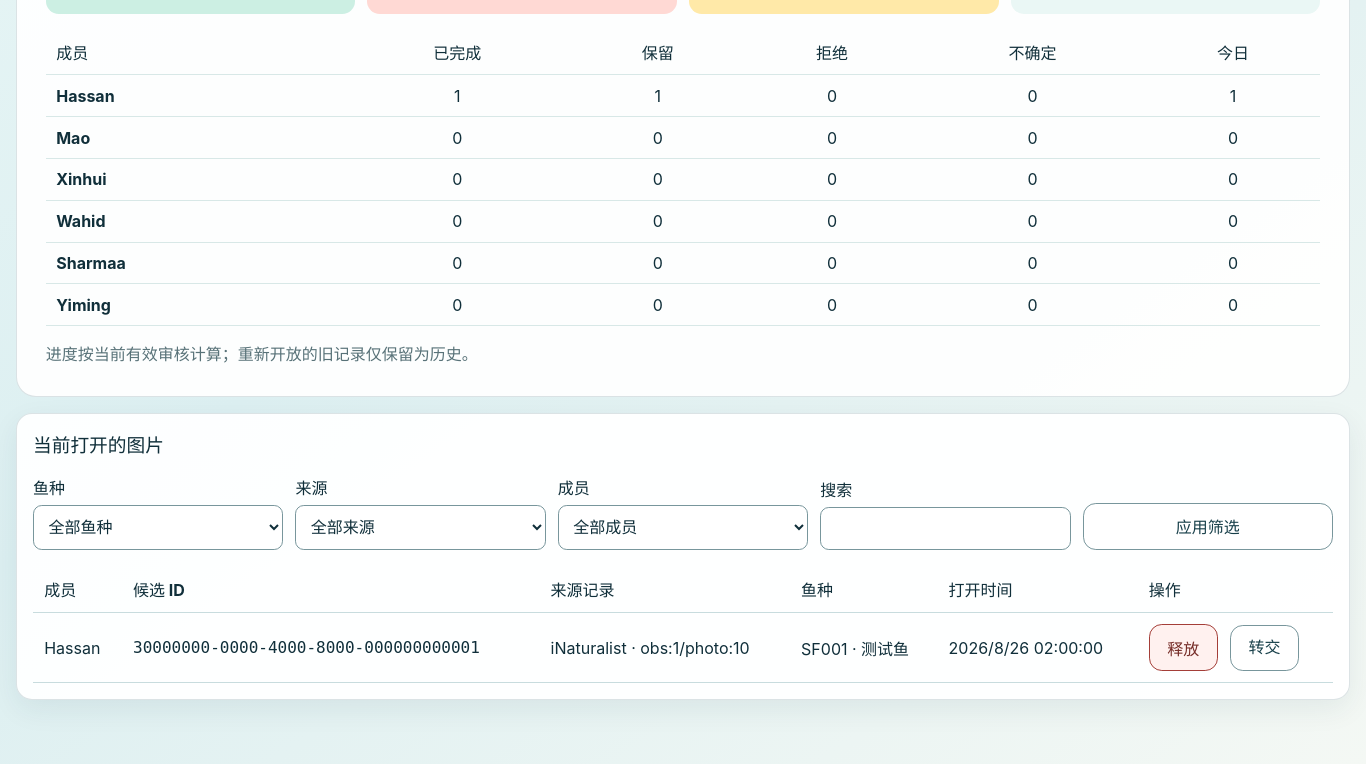
progress/current and candidate safety › transfers with the exact version, active reviewer, reason and CSRF
(page scrolled)
Click the button "转交". click: (1264, 648)
box: [1230, 625, 1299, 671]
(page scrolled)
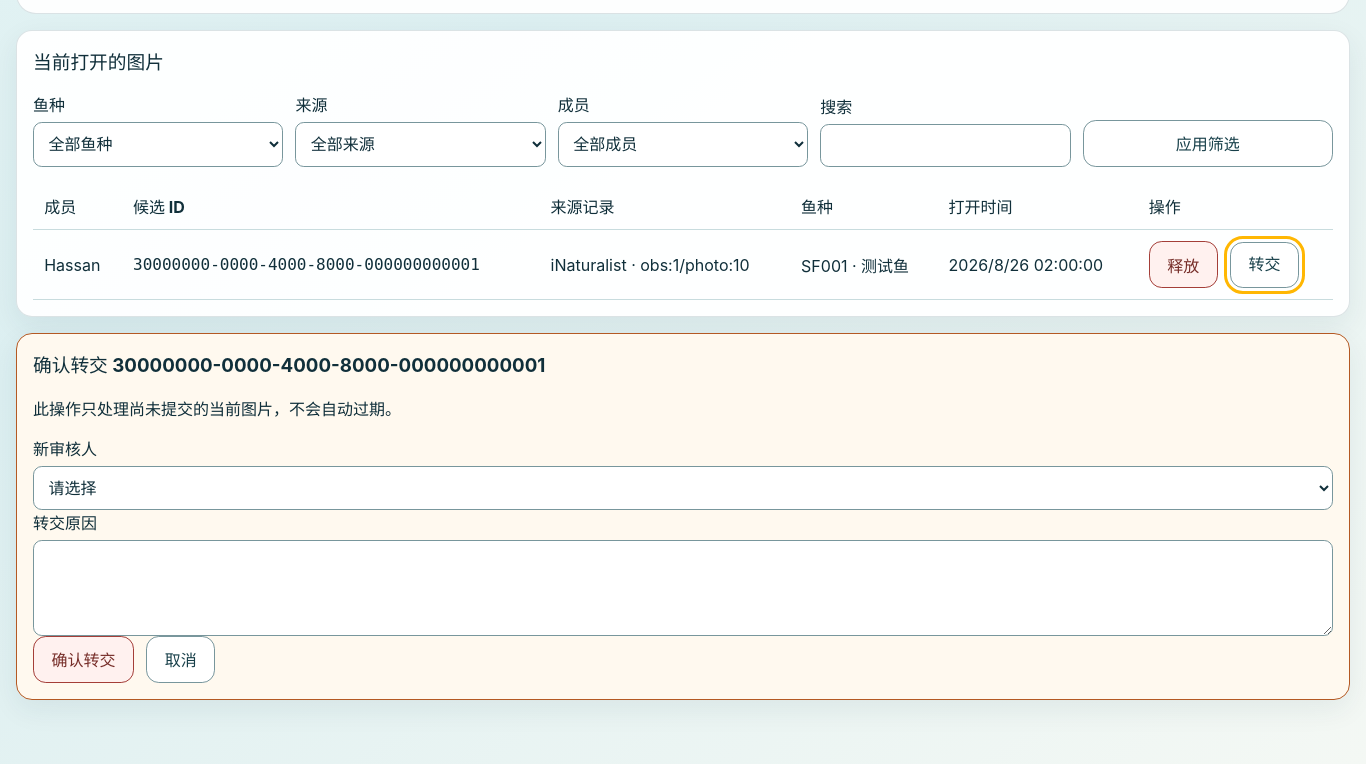
Select "Xinhui" in the dropdown labelled "新审核人". click: (683, 488)
box: [33, 466, 1333, 510]
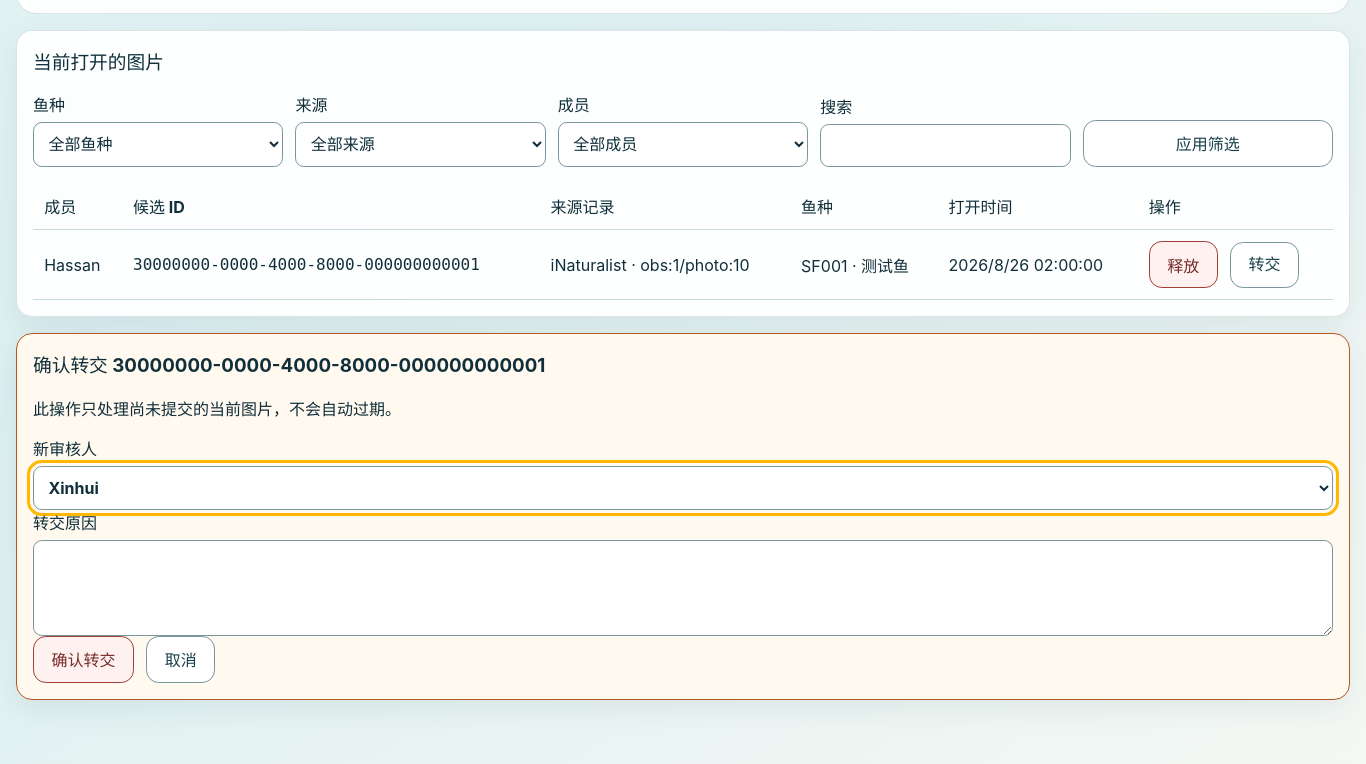
Type "平衡工作量" into the text box labelled "转交原因". click: (683, 588)
box: [33, 540, 1333, 636]
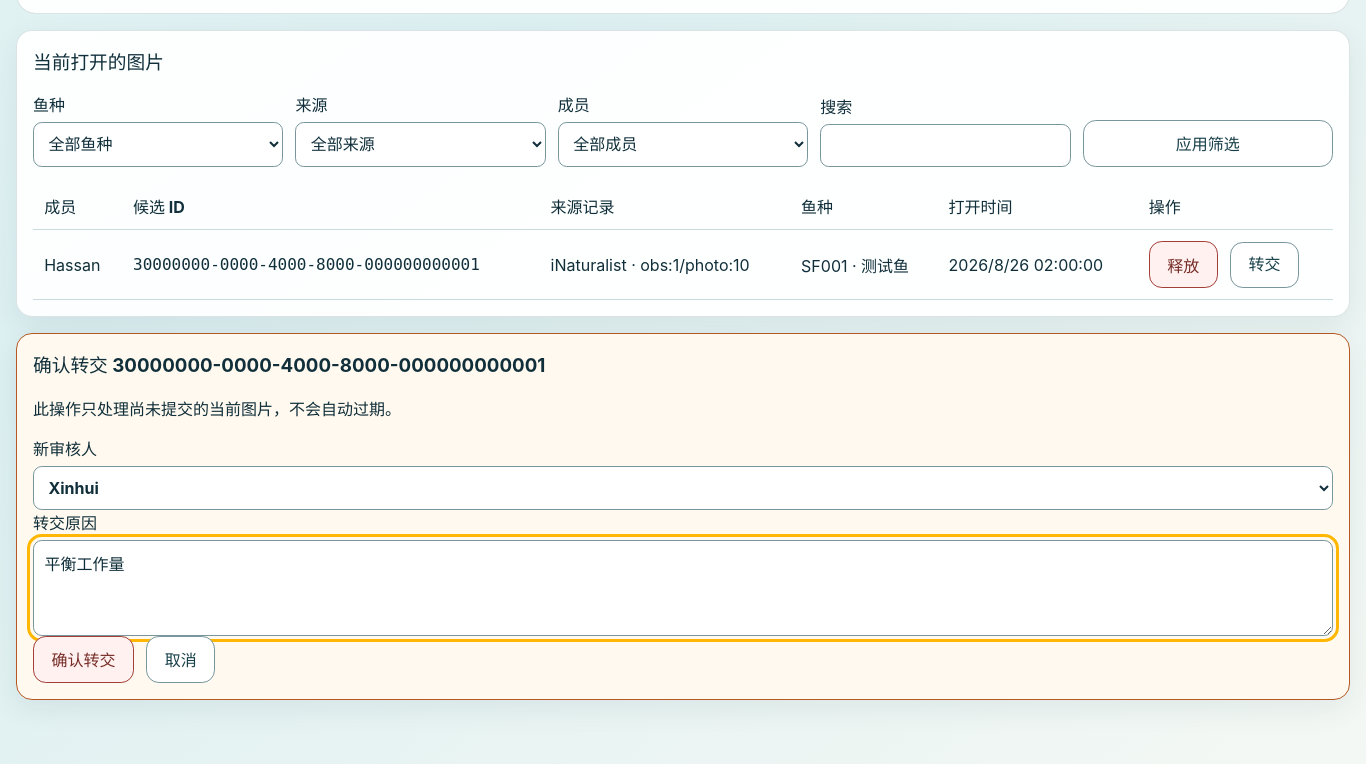
Click the button "确认转交". click: (84, 660)
box: [33, 636, 134, 683]
(page scrolled)
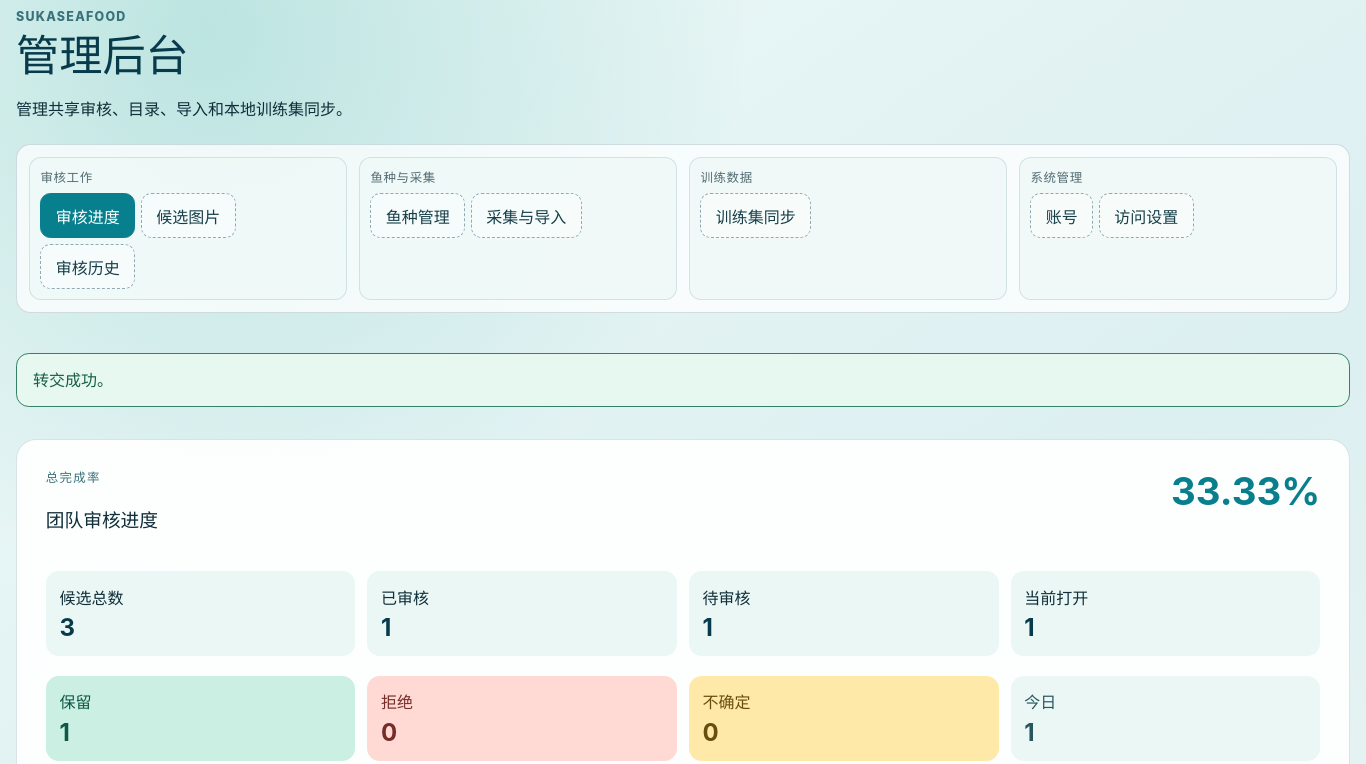
Check: the message shows "转交成功", box [33, 370, 113, 390]
